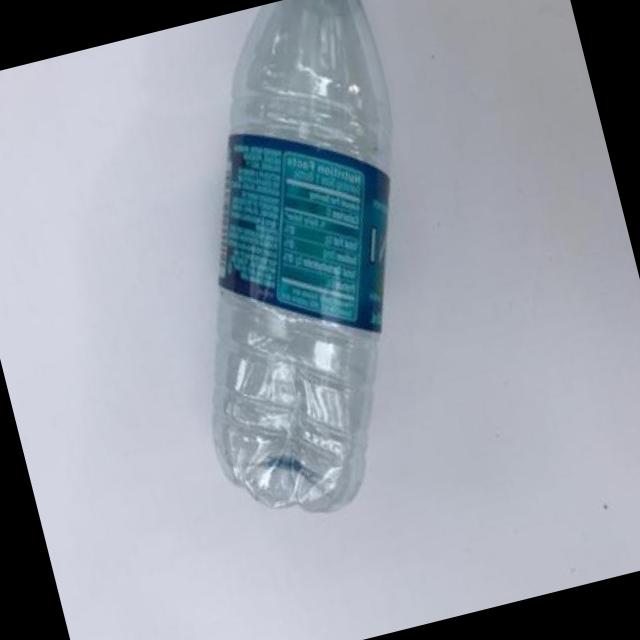plastic_bottle: (112, 0, 483, 536)
